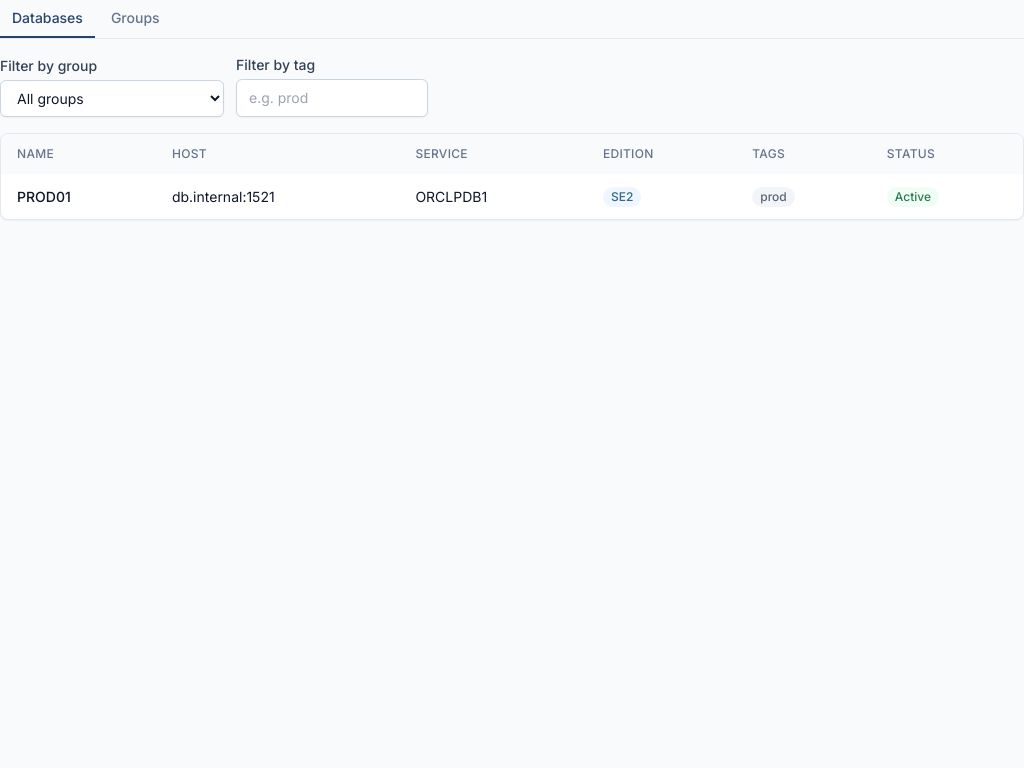
Test: DatabasesPage › switches to the Capabilities tab in the drawer
Click the text "PROD01" at coordinates (44, 196), box [17,188,71,204]
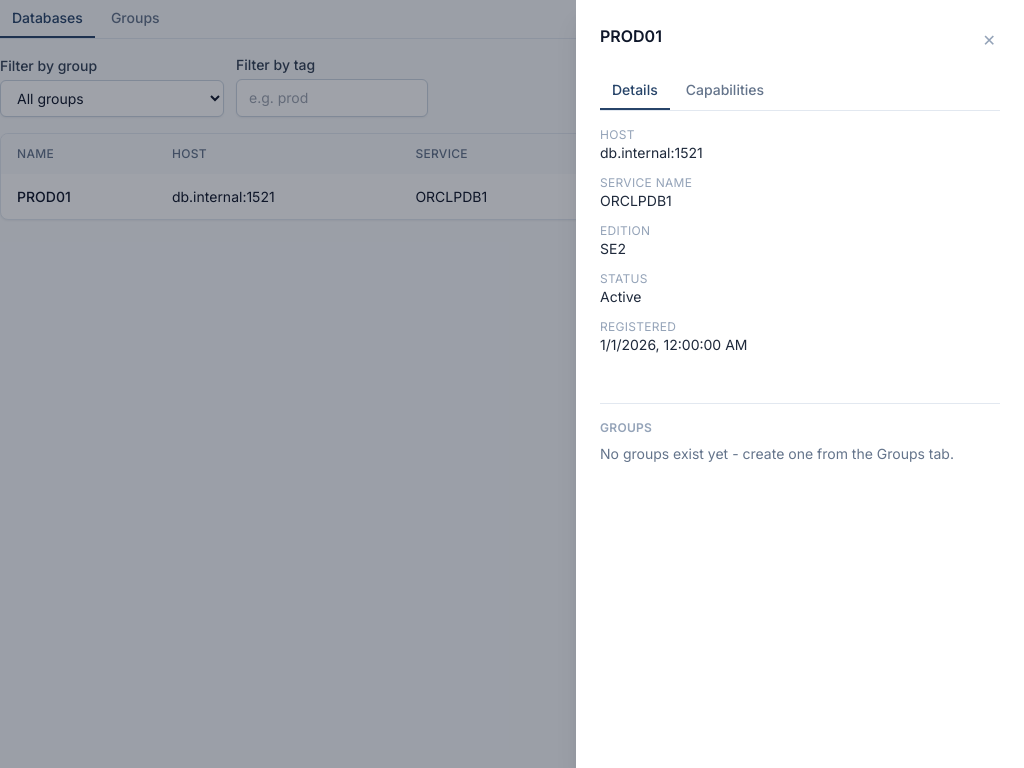
Click the tab "Capabilities" at coordinates (725, 91), box [674,72,776,110]
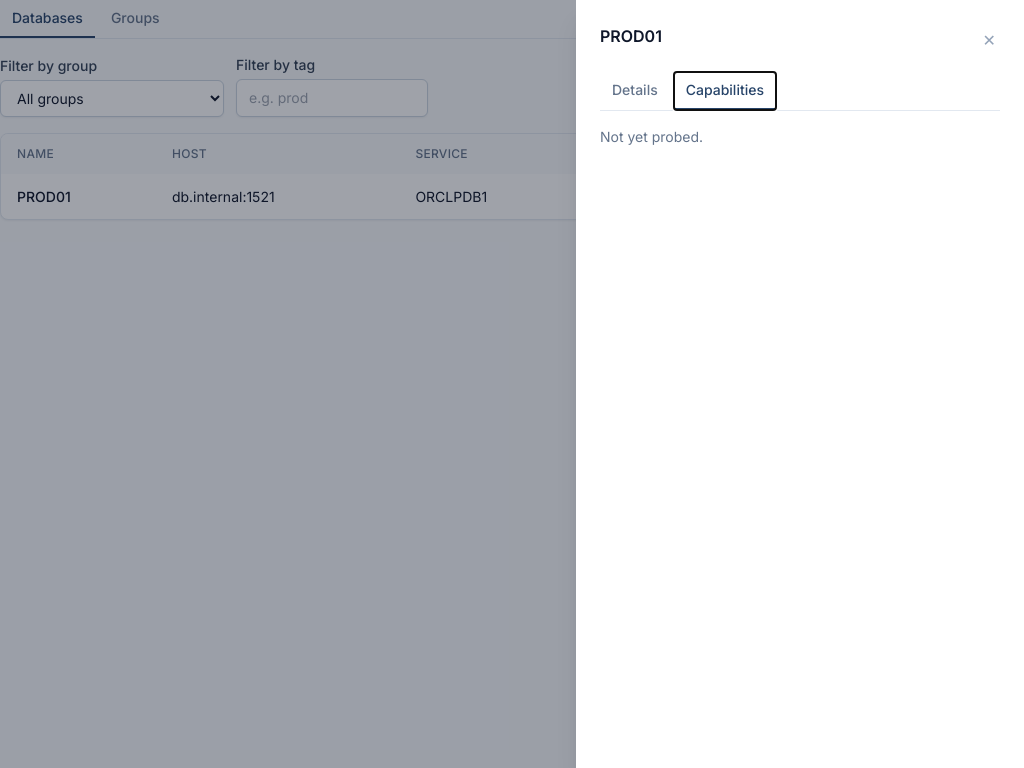
Now the text "Not yet probed." is shown, box [600,128,703,145]
